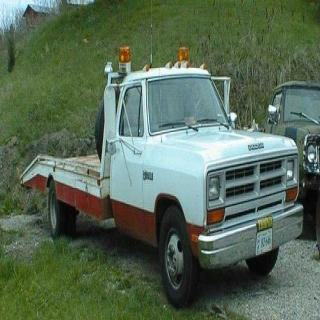Towing_truck: (19, 44, 305, 310)
